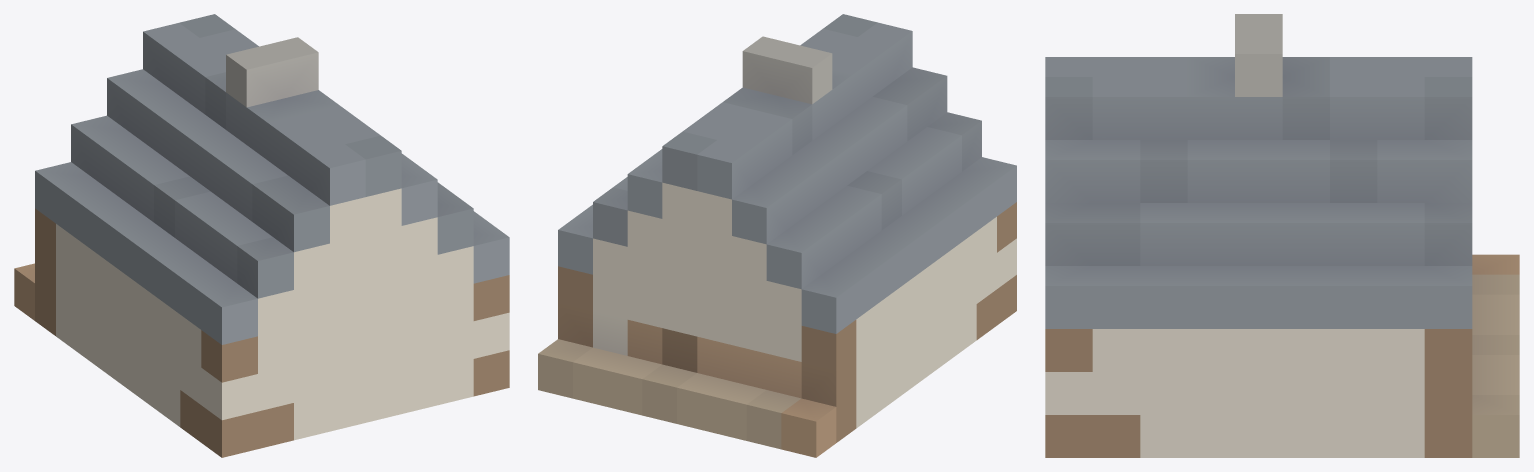
File: dyer.lite.glb
3 renders of one model, left to right at view 1: azimuth 30°, elevation 25°; view 2: azimuth 150°, elevation 25°; view 3: azimuth 270°, elevation 25°, orthographic. The views are drawn at different scales.
Visible parts, largest first — view 1: dyer; view 2: dyer; view 3: dyer.
Part boxes in pixels (x1,y1,x2,y2): dyer: (14,14,509,457); dyer: (538,14,1016,457); dyer: (1045,14,1519,457).
Bounding box in the file's own units: 4 × 4 × 5.
